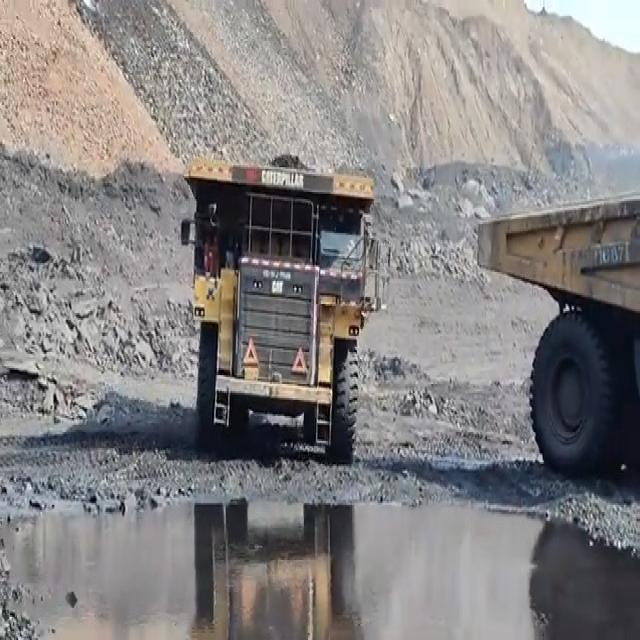dump_truck: (181, 148, 380, 470), (469, 185, 640, 498)
